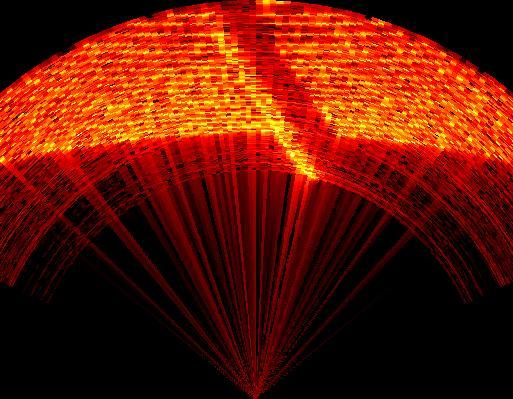pipe: (218, 2, 346, 174)
